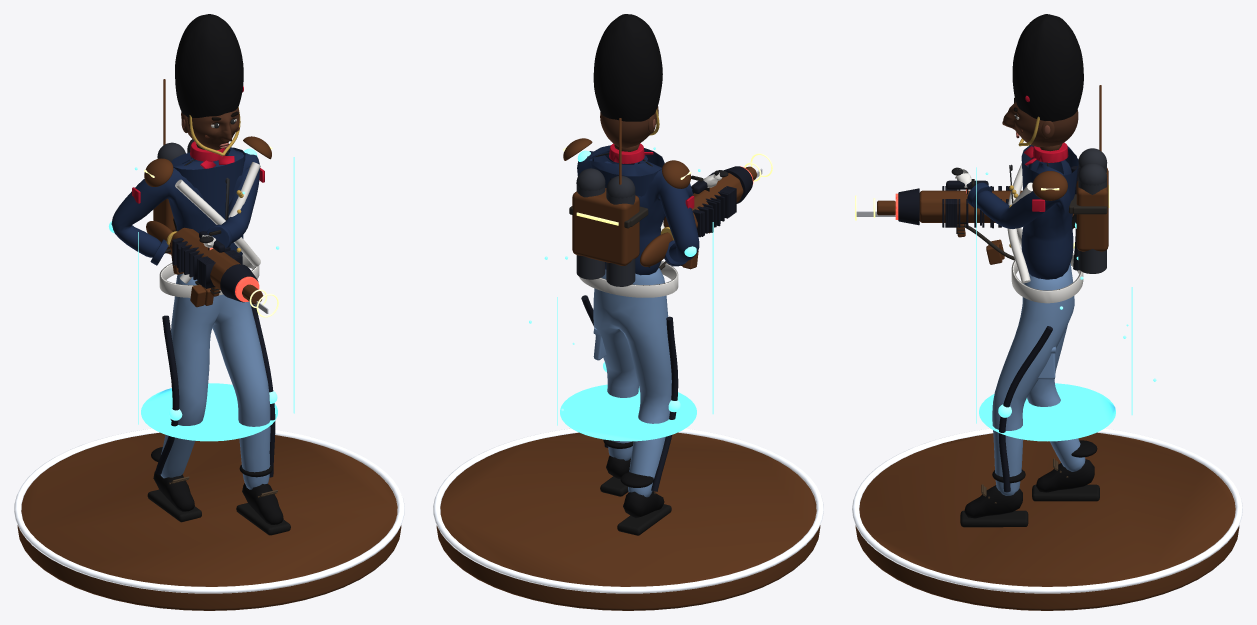
The model's file is straale_kbh.glb.
3 views of the same model, side by side, from view 1: azimuth 30°, elevation 25°; view 2: azimuth 150°, elevation 25°; view 3: azimuth 270°, elevation 25° (orthographic).
Parts seen in each view (by area): view 1: fod_net, menneske_net, hoved_net, op4.002_net, vaaben_net, op1.001_net, op4_net, op3.001_net, op4.001_net; view 2: fod_net, menneske_net, hoved_net, op3.001_net, op4.002_net, vaaben_net, op4_net, op1.001_net; view 3: fod_net, menneske_net, hoved_net, op4.002_net, vaaben_net, op3.001_net, op1.001_net, op4_net.
Part boxes in pixels (<box>): fod_net: <box>14,428,404,610</box>; menneske_net: <box>111,139,290,535</box>; hoved_net: <box>175,14,243,156</box>; op4.002_net: <box>134,157,294,441</box>; vaaben_net: <box>146,218,259,302</box>; op1.001_net: <box>159,162,260,297</box>; op4_net: <box>108,148,277,477</box>; op3.001_net: <box>144,79,272,231</box>; op4.001_net: <box>190,255,278,317</box>; fod_net: <box>433,428,823,610</box>; menneske_net: <box>576,143,728,535</box>; hoved_net: <box>593,14,662,148</box>; op3.001_net: <box>563,118,691,265</box>; op4.002_net: <box>529,147,713,441</box>; vaaben_net: <box>639,166,753,266</box>; op4_net: <box>577,150,696,491</box>; op1.001_net: <box>569,206,678,297</box>; fod_net: <box>852,428,1242,610</box>; menneske_net: <box>951,142,1107,527</box>; hoved_net: <box>1002,14,1083,147</box>; op4.002_net: <box>976,167,1156,441</box>; vaaben_net: <box>895,180,1075,229</box>; op3.001_net: <box>1009,85,1109,251</box>; op1.001_net: <box>1007,163,1107,303</box>; op4_net: <box>998,166,1079,492</box>.
Bounding box in the file's own units: 1.94 × 2.82 × 1.94.
